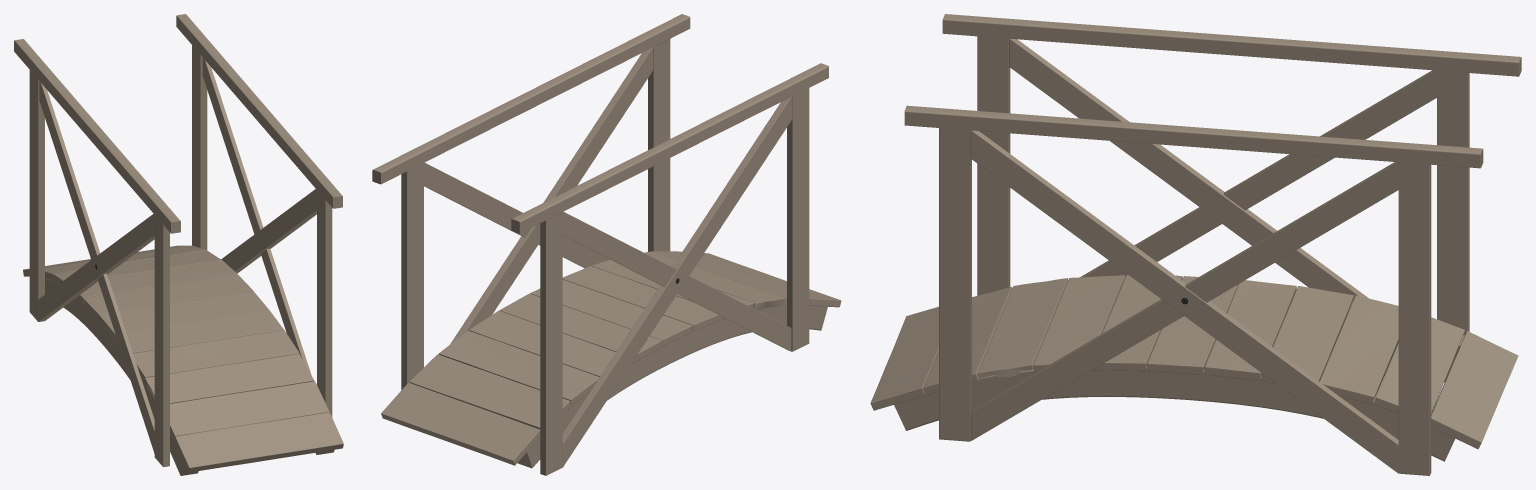
3 views of the same model, side by side, from view 1: azimuth 30°, elevation 25°; view 2: azimuth 150°, elevation 25°; view 3: azimuth 270°, elevation 25° (orthographic). The views are drawn at different scales.
Parts seen in each view (by area): view 1: arch22_012_01, arch22_012_04, arch22_012_05, arch22_012_00; view 2: arch22_012_04, arch22_012_01, arch22_012_05, arch22_012_00; view 3: arch22_012_04, arch22_012_01, arch22_012_05, arch22_012_00.
Part boxes in pixels (box(x1,y1,x2,y2)): arch22_012_01: box(23, 245, 343, 472); arch22_012_04: box(29, 45, 332, 467); arch22_012_05: box(14, 14, 342, 233); arch22_012_00: box(45, 278, 334, 475); arch22_012_04: box(401, 39, 809, 475); arch22_012_01: box(381, 251, 841, 465); arch22_012_05: box(372, 14, 828, 233); arch22_012_00: box(518, 305, 827, 468); arch22_012_04: box(939, 36, 1469, 475); arch22_012_01: box(870, 275, 1518, 449); arch22_012_05: box(904, 14, 1521, 168); arch22_012_00: box(894, 302, 1464, 461).
Bounding box in the file's own units: 1109 × 1204 × 2174.
